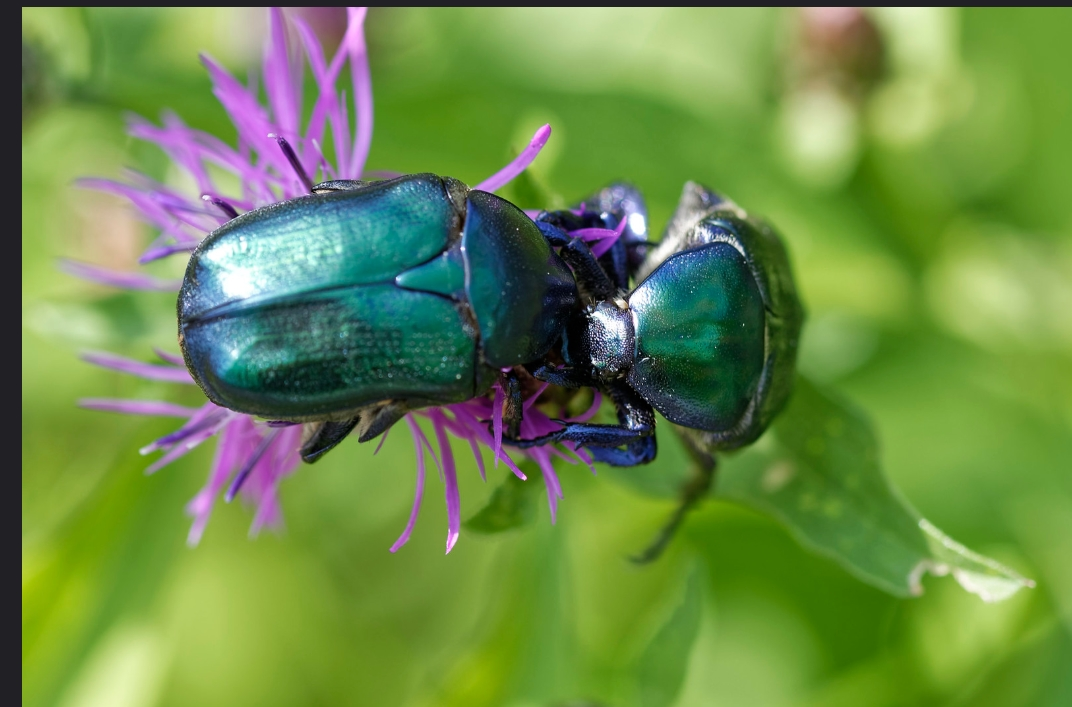Cetonia_aurata: (172, 165, 579, 435), (583, 182, 803, 471)
